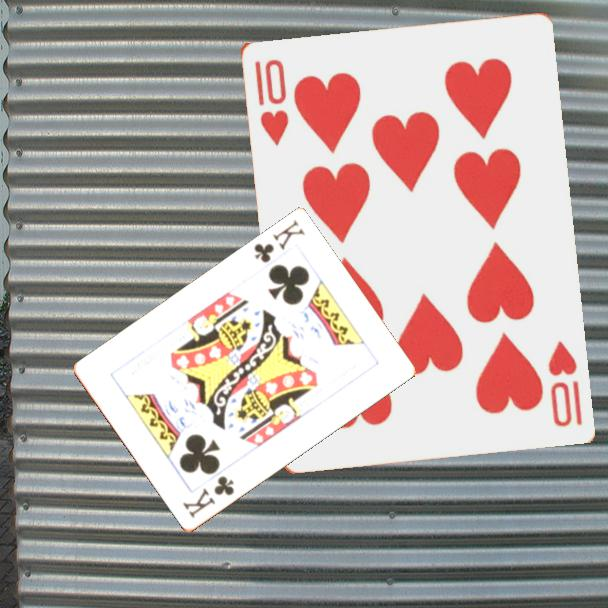c13: (179, 472, 237, 522), (250, 217, 308, 266)
h10: (544, 337, 585, 429), (251, 55, 291, 148)
